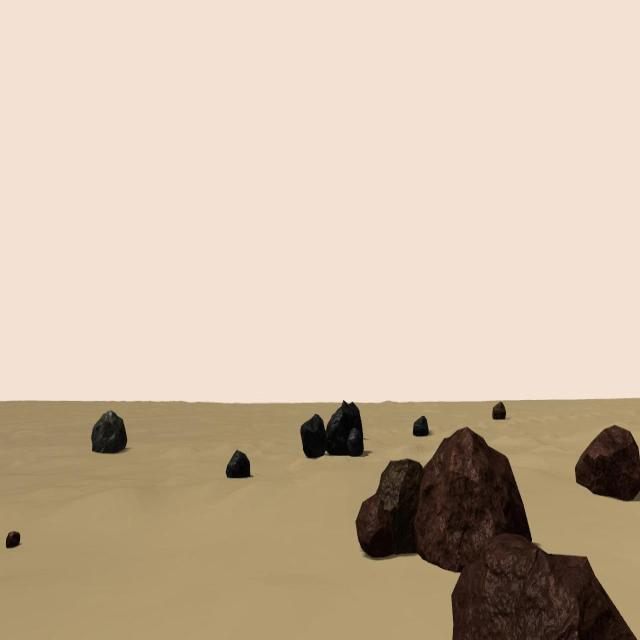rock: (452, 534, 637, 640), (414, 426, 532, 573), (575, 424, 640, 501), (378, 458, 424, 555), (355, 492, 392, 558), (328, 399, 364, 457), (91, 409, 127, 453), (300, 413, 326, 458), (226, 449, 250, 478), (348, 426, 364, 456), (413, 415, 429, 437), (492, 400, 506, 420), (6, 530, 20, 548)
